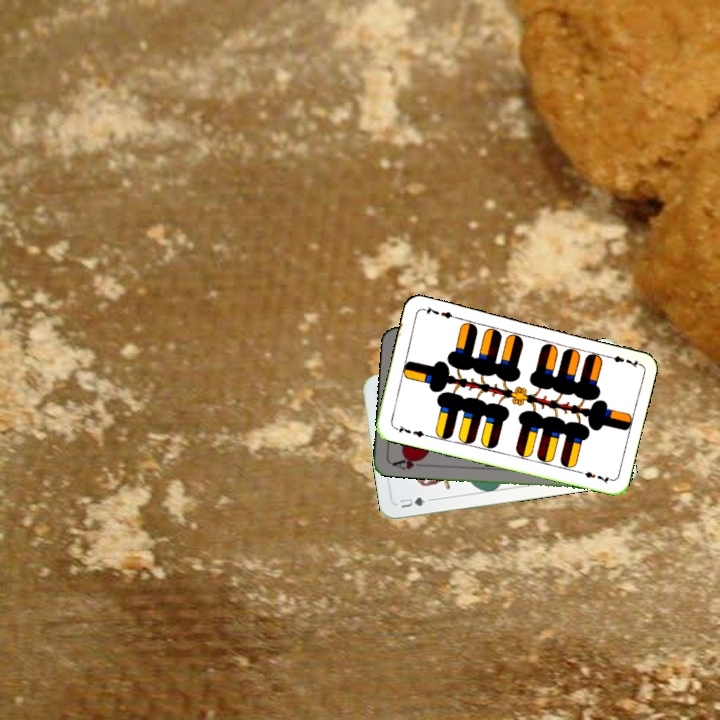E7: (601, 351, 642, 370), (390, 421, 430, 440)
GU: (396, 493, 428, 511)
HA: (388, 453, 428, 472)
